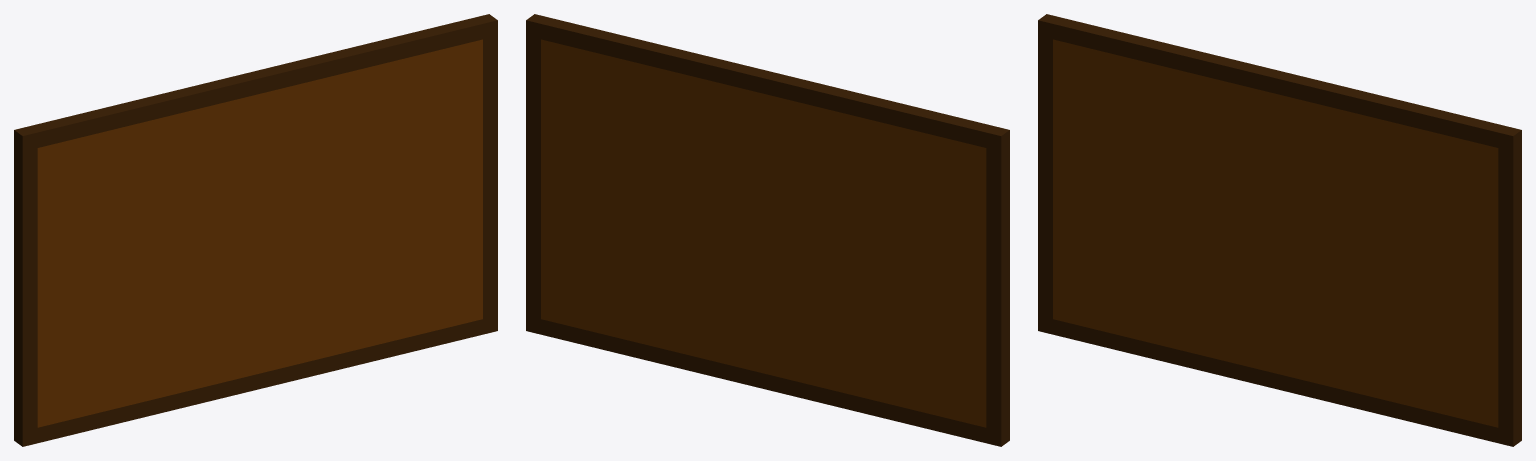
File: Whiteboard.obj
3 views of the same model, side by side, from view 1: azimuth 30°, elevation 25°; view 2: azimuth 150°, elevation 25°; view 3: azimuth 330°, elevation 25° (orthographic).
Size of the model in its own units: 3.2 by 2 by 0.1.
1 material, 1 textured.
